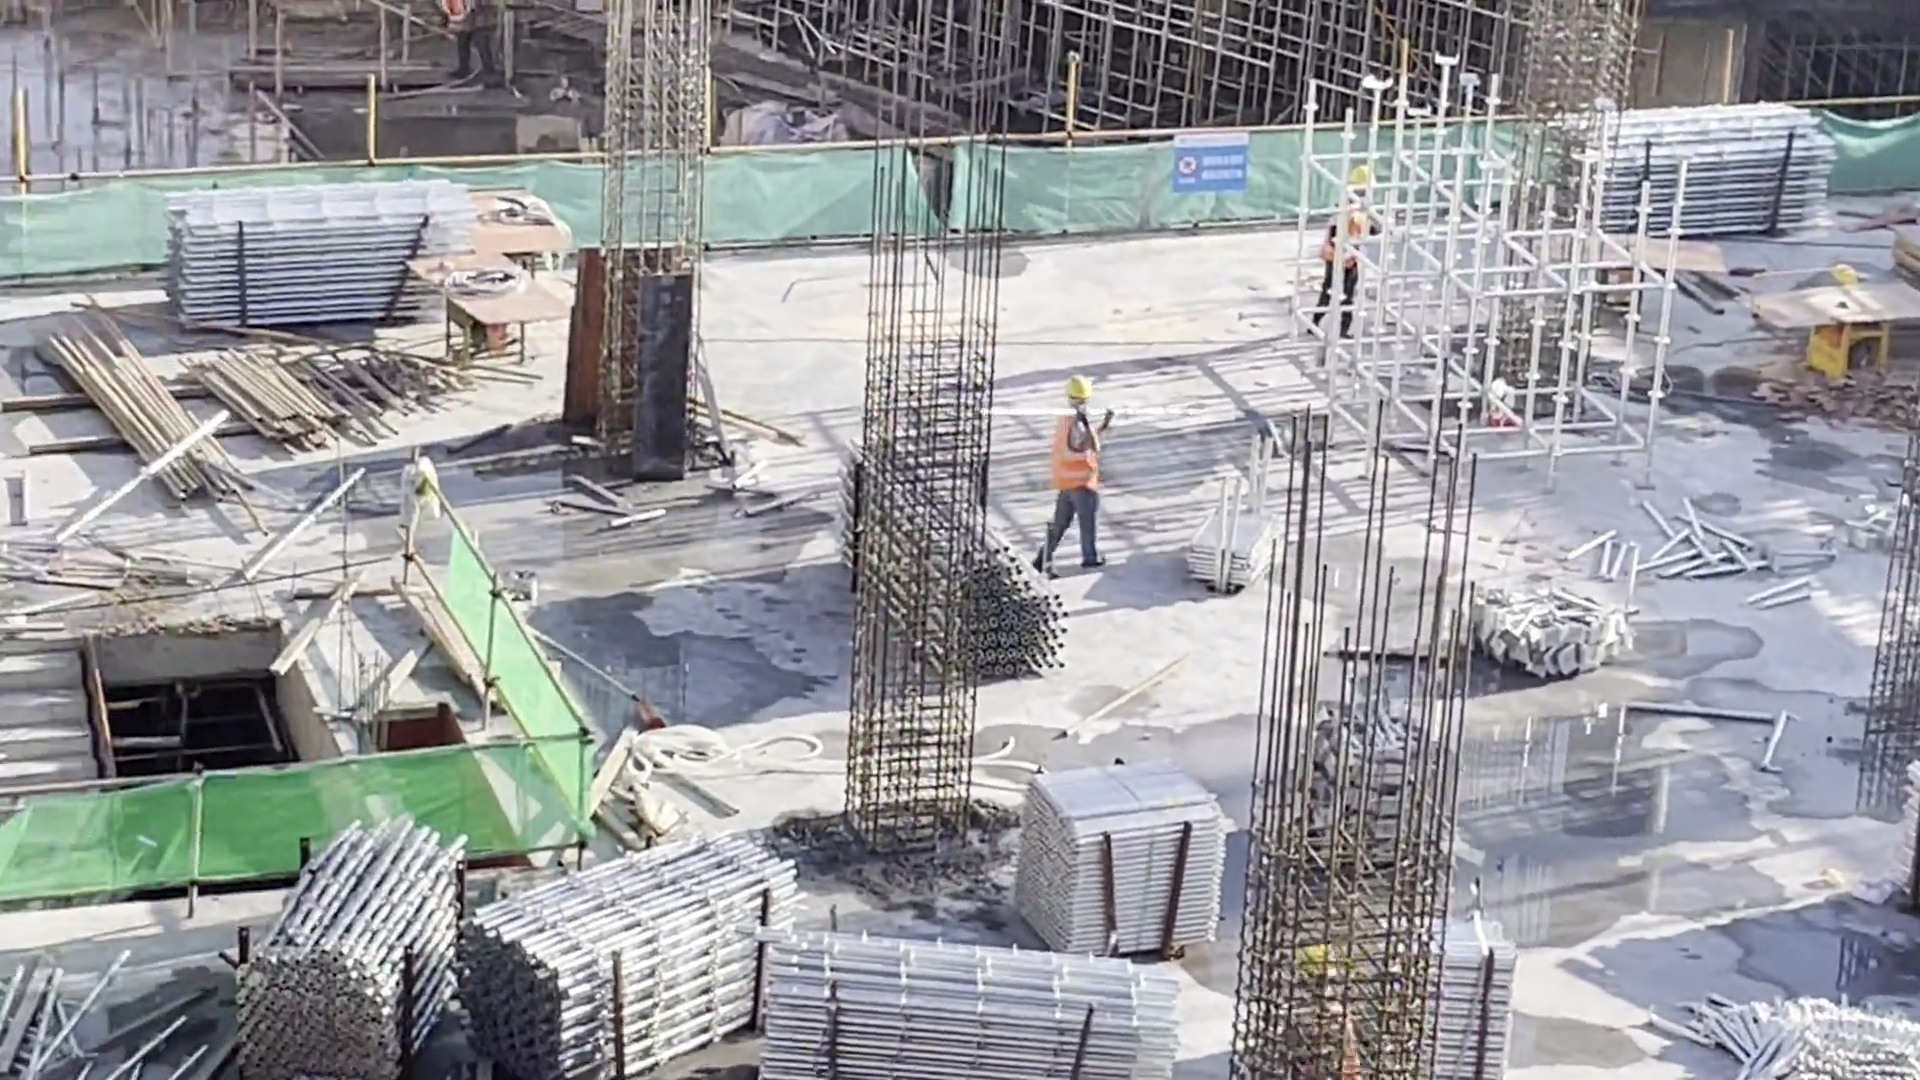cutter: (1763, 264, 1910, 396), (1548, 232, 1724, 324), (436, 267, 552, 372), (477, 187, 574, 263)
helmet: (1062, 372, 1097, 400), (1346, 166, 1373, 188)
person: (1030, 372, 1115, 572), (1308, 157, 1379, 358), (435, 1, 514, 85)
scaffold: (521, 845, 764, 1057), (780, 940, 1177, 1069), (273, 833, 432, 1065), (189, 213, 469, 323), (1549, 131, 1809, 239), (889, 465, 1023, 671), (1049, 775, 1209, 935), (1713, 990, 1902, 1080), (1200, 465, 1296, 576)
slogan: (1174, 144, 1246, 191)
vest: (1047, 419, 1103, 503), (1323, 213, 1363, 271), (437, 4, 485, 33)
